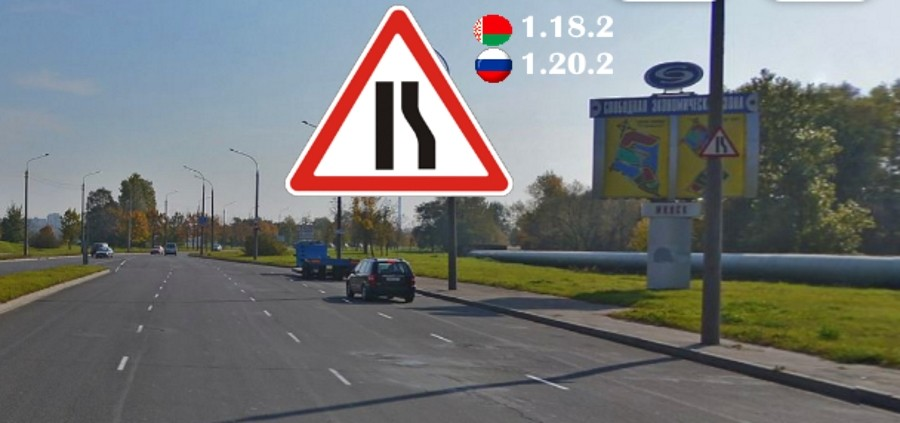1.18.2: (281, 7, 507, 198), (693, 132, 736, 158)
